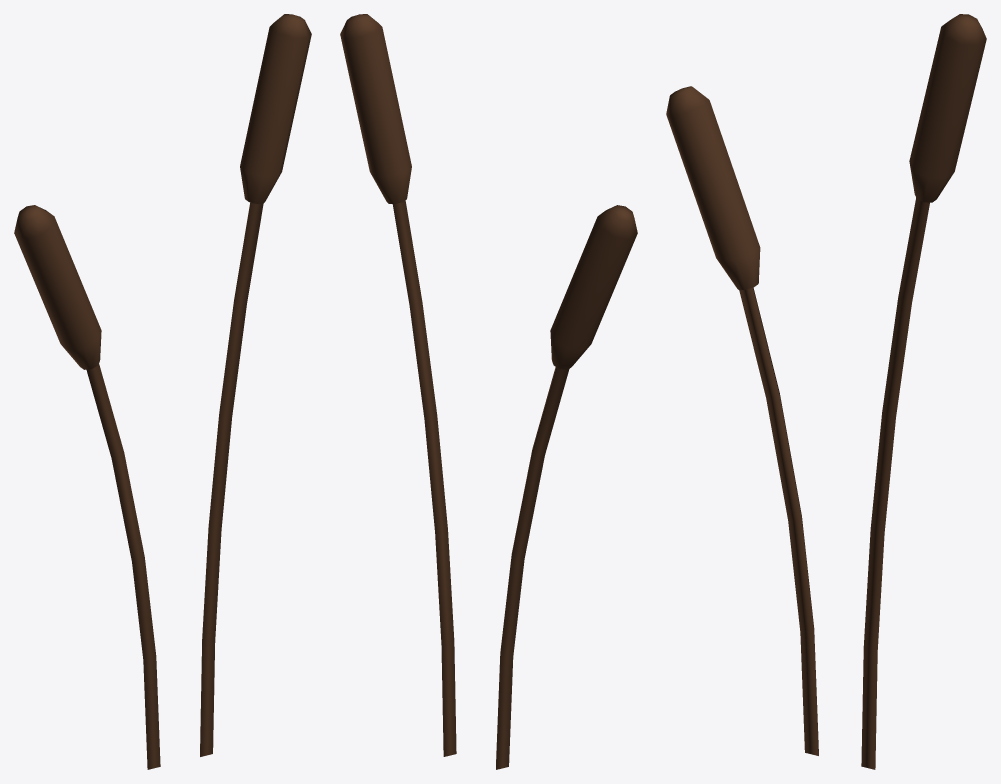
File: ReedGrass.fbx
3 renders of one model, left to right at view 1: azimuth 30°, elevation 25°; view 2: azimuth 150°, elevation 25°; view 3: azimuth 330°, elevation 25°, orthographic. The views are drawn at different scales.
Parts seen in each view (by area): view 1: reed_grass; view 2: reed_grass; view 3: reed_grass.
Part boxes in pixels (<box>): reed_grass: <box>14,14,311,769</box>; reed_grass: <box>340,14,637,769</box>; reed_grass: <box>666,14,986,769</box>.
Size of the model in its own units: 39.02 by 92.37 by 4.73.
